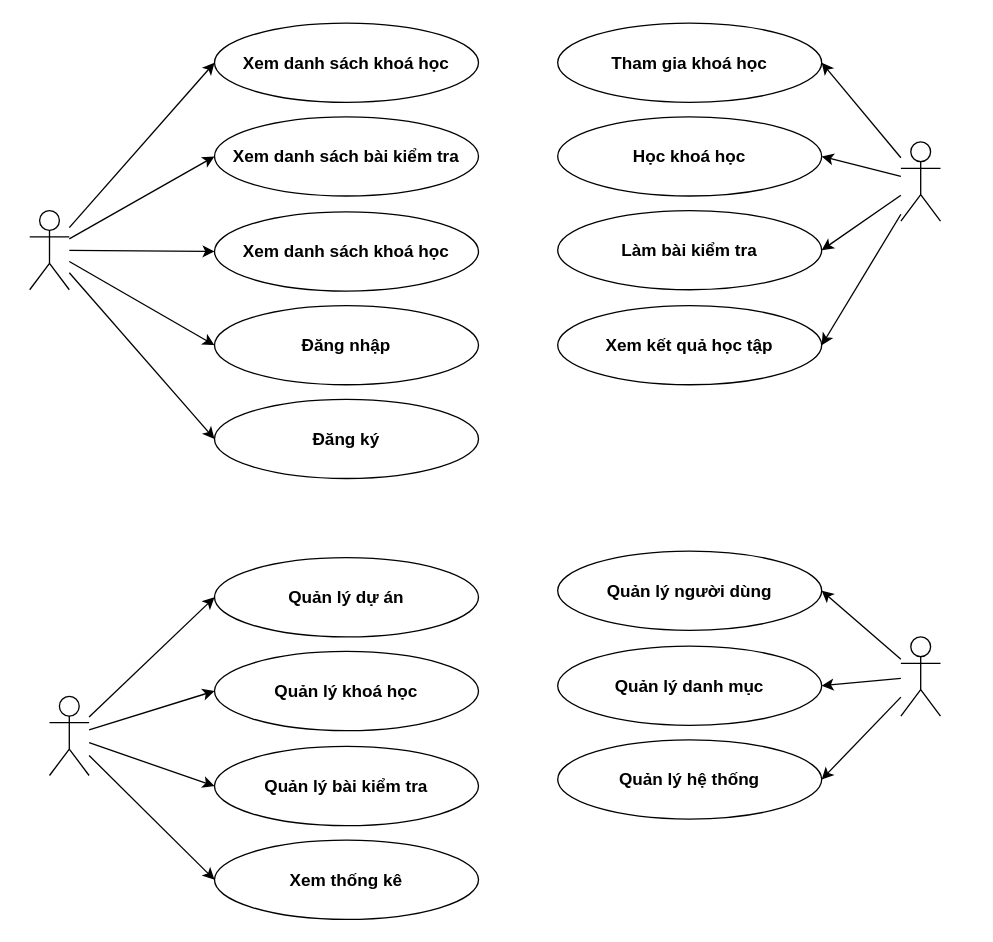
This 993x942 diagram has some shape labels left out. The box of each missing label's shape, as (x1, y1, x2, y2) in pixels:
Admin: (900, 636, 940, 716)
Giảng viên: (48, 695, 89, 776)
Khách: (28, 209, 69, 290)
Người dùng: (900, 141, 940, 221)
